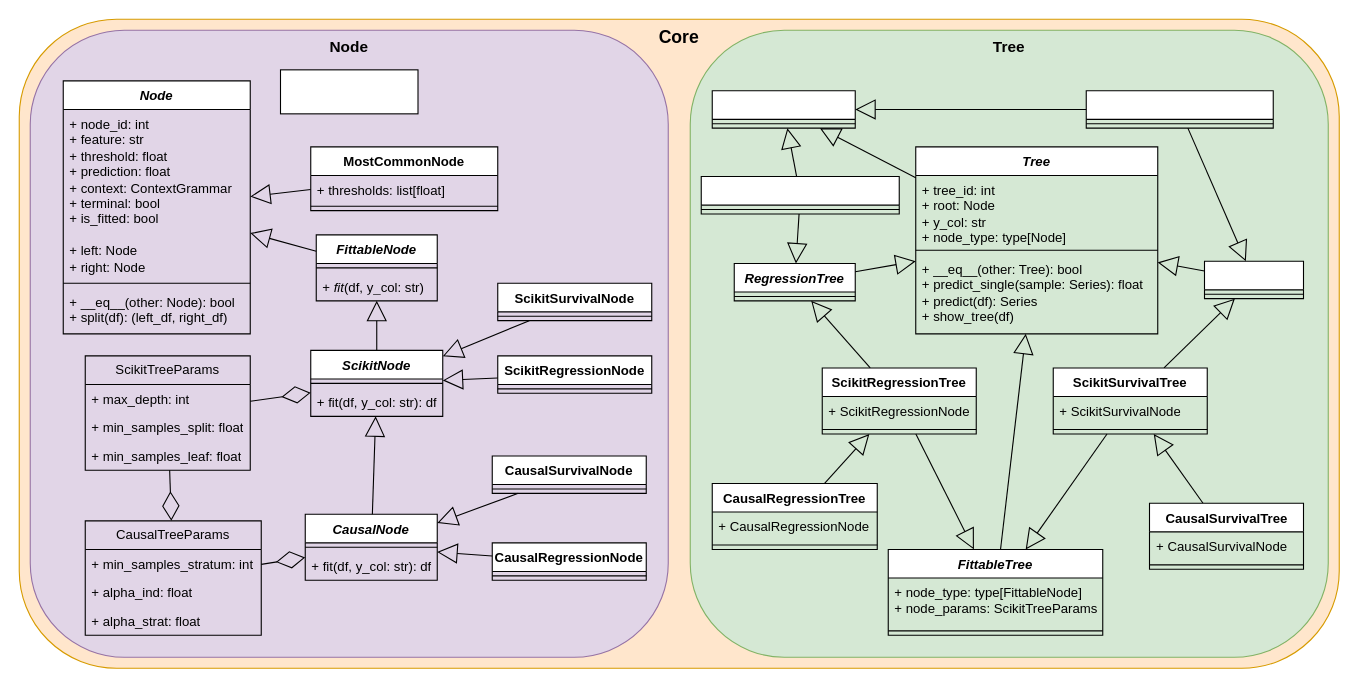
Image size: 1359x688. Some labels were removed from this diagram. The centre of each missing label's shape, as x and y in pixels:
"MostCommonTree" belongs at [783,109].
"MostCommonTreeRegression" belongs at [799,194].
"MostCommonTreeSurvival" belongs at [1179,109].
"SurvivalTree" belongs at [1253,279].
"«Context Grammar» '[`X` {>, <=} t {&}]'" belongs at [348,91].
